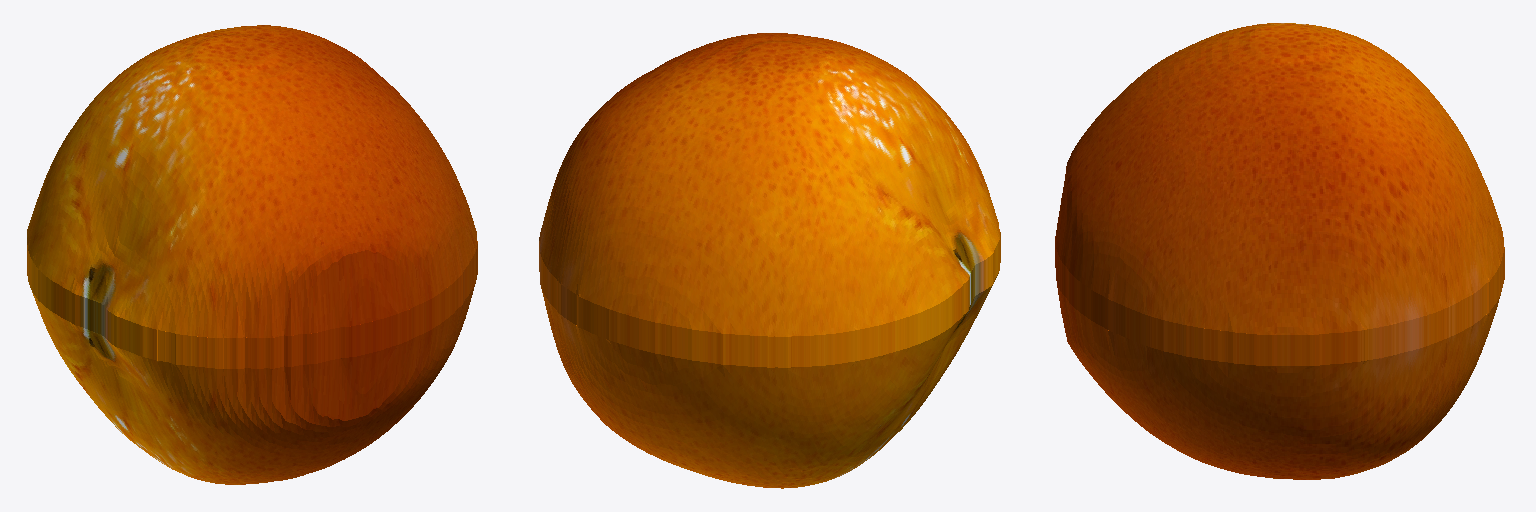
The picture shows the model from 3 angles: view 1: azimuth 30°, elevation 25°; view 2: azimuth 150°, elevation 25°; view 3: azimuth 270°, elevation 25°; orthographic projection.
Visible parts, largest first — view 1: Grid; view 2: Grid; view 3: Grid.
Boxes of the visible parts, x1,y1,x2,y2 form: Grid: [27, 25, 477, 484]; Grid: [539, 33, 1000, 488]; Grid: [1055, 23, 1504, 479].
Bounding box in the file's own units: 1.58 × 1.61 × 1.58.
1 materials, 1 textured.